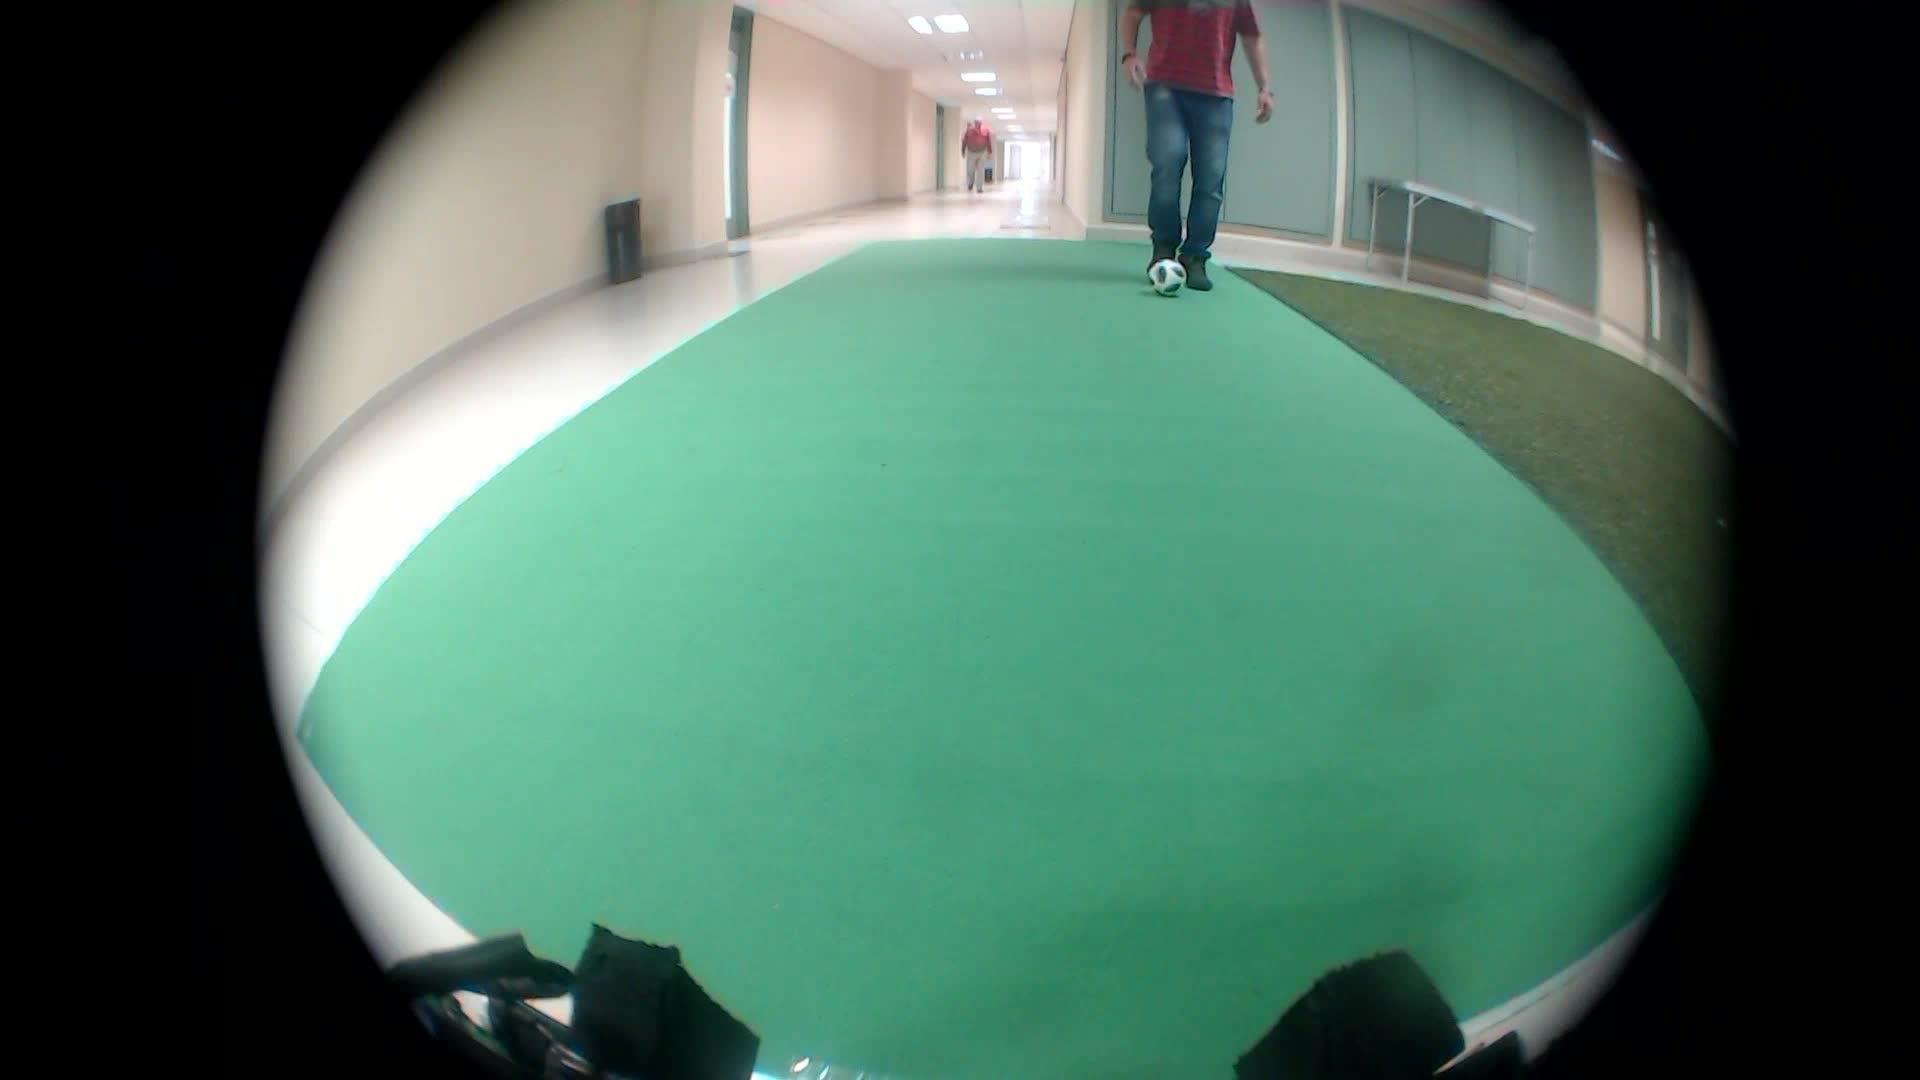ball: (1149, 255, 1189, 305)
